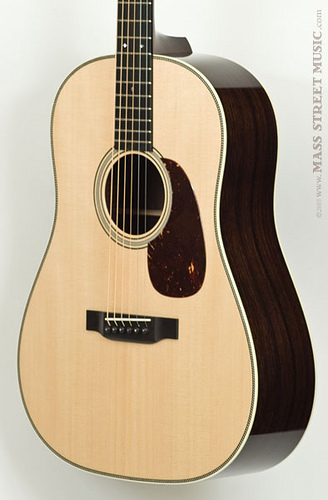guitar: (15, 1, 317, 484)
